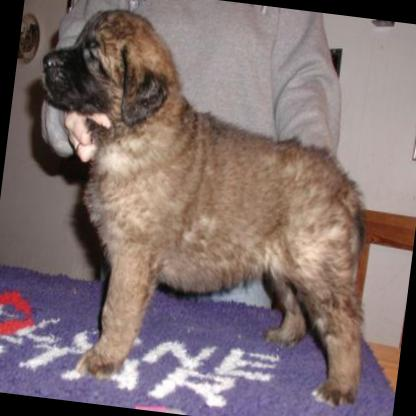Leonberg: (5, 1, 399, 403)
